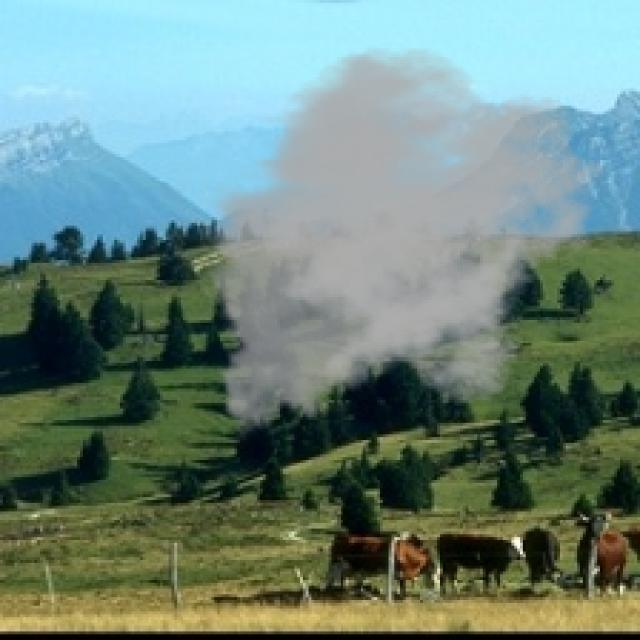Smoke: (197, 46, 609, 446)
